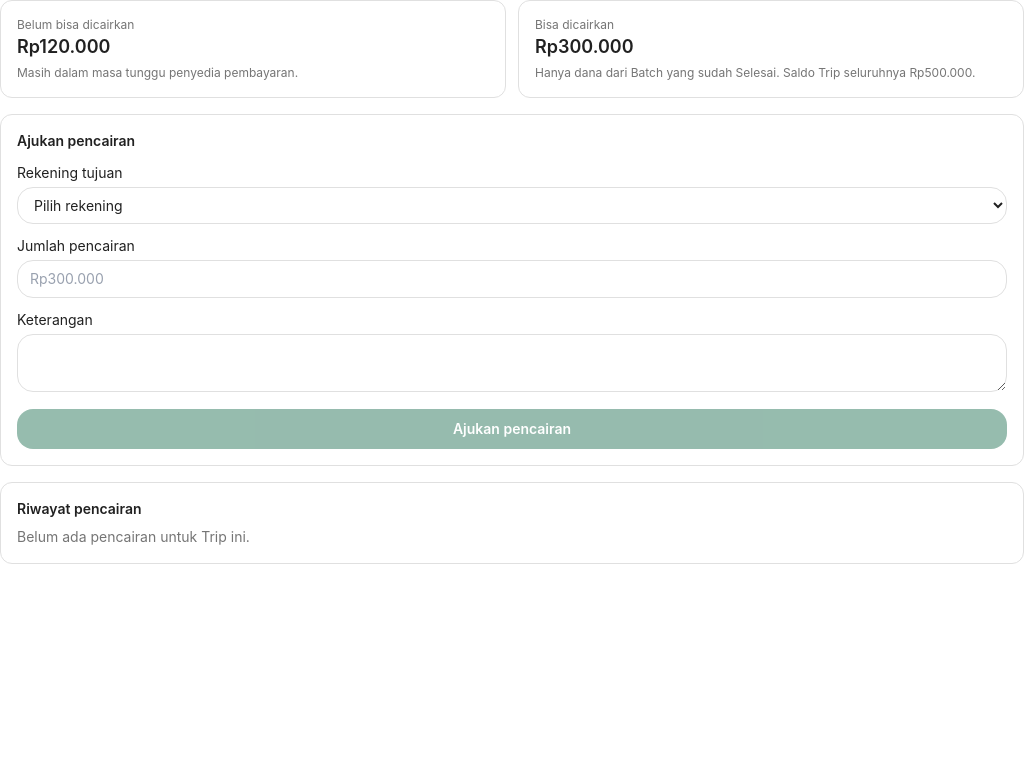
TripPayoutPanel › warns and disables submit when the amount is above what is withdrawable
Select "BCA - Fundraiser One" in the dropdown labelled "Rekening tujuan" at coordinates (512, 206), box [17, 187, 1007, 224]
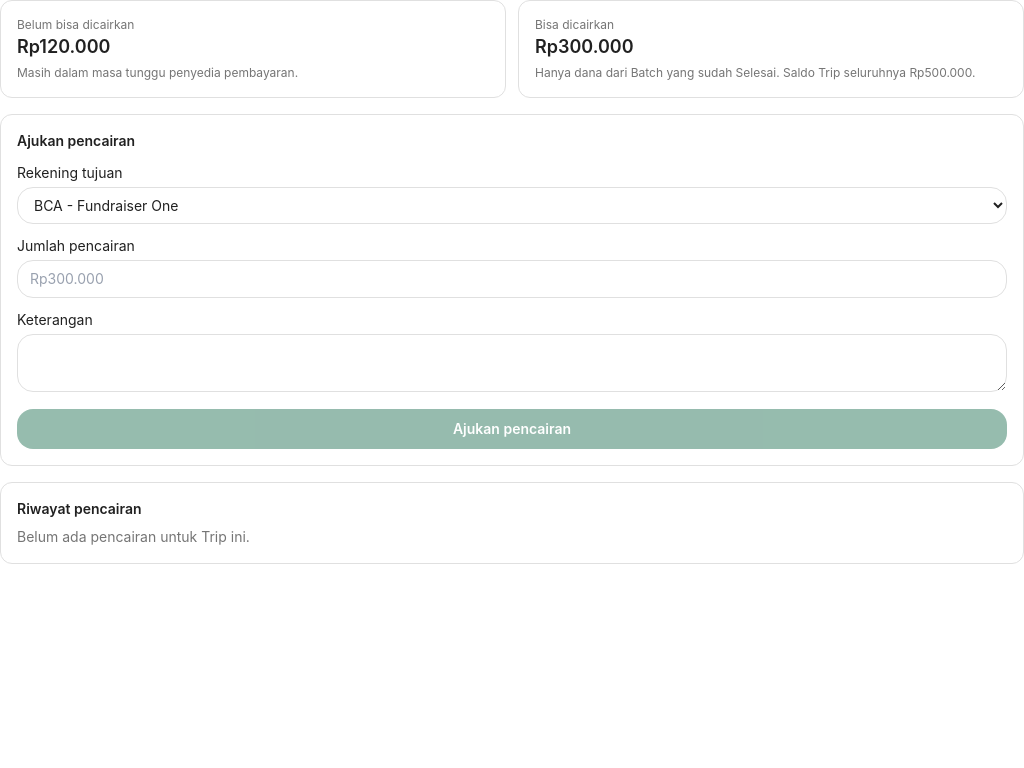
Type "100000" into the field labelled "Jumlah pencairan" at coordinates (512, 279), box [17, 260, 1007, 298]
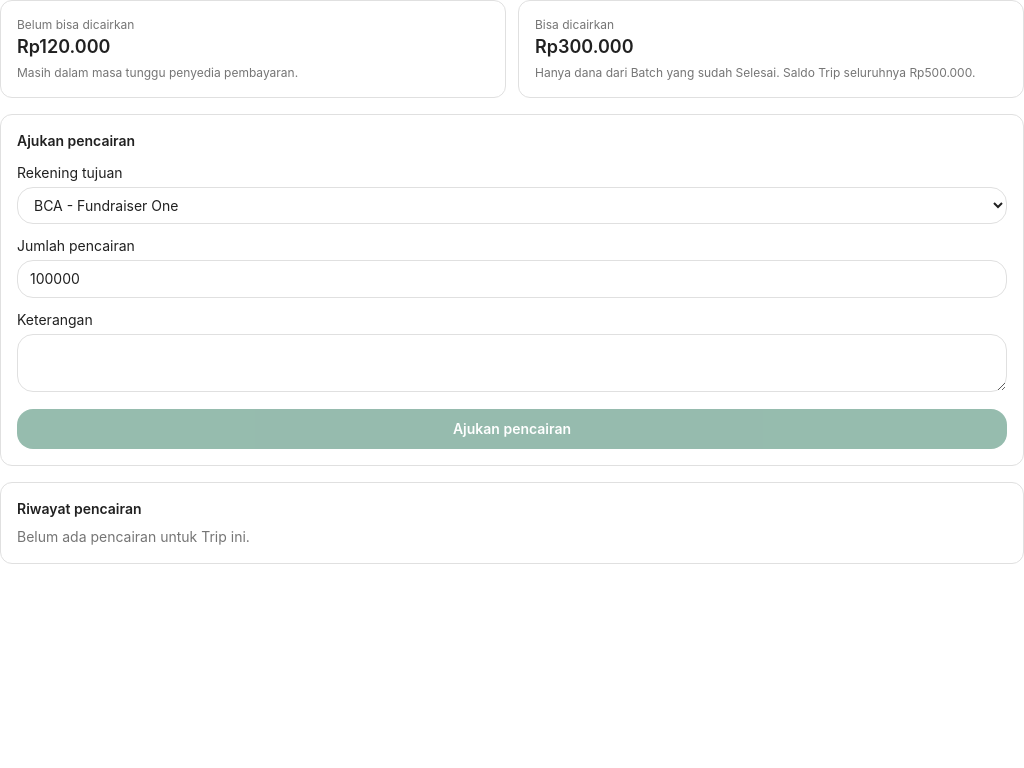
Type " Tahap 1 " into the text box labelled "Keterangan" at coordinates (512, 363), box [17, 334, 1007, 392]
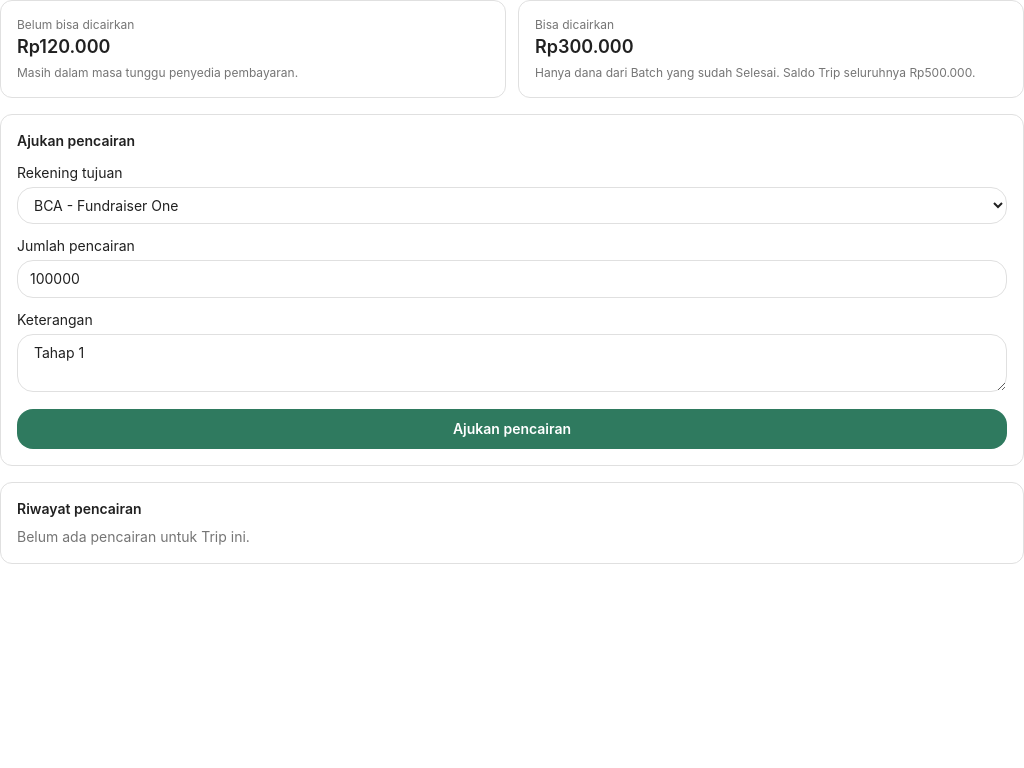
Replace the text in the field labelled "Jumlah pencairan" with "300001" at coordinates (512, 279), box [17, 260, 1007, 298]
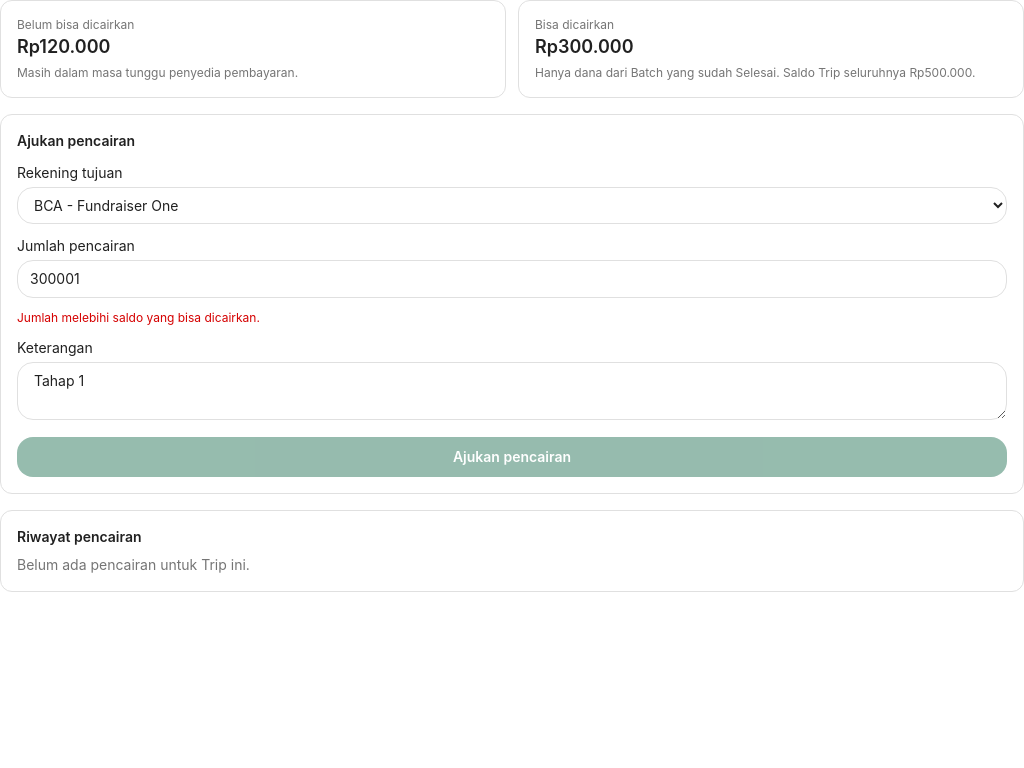
expect the text "Jumlah melebihi saldo yang bisa dicairkan." is shown: met, box [17, 310, 260, 325]
expect the button "Ajukan pencairan" is disabled: met, box [17, 437, 1007, 477]
